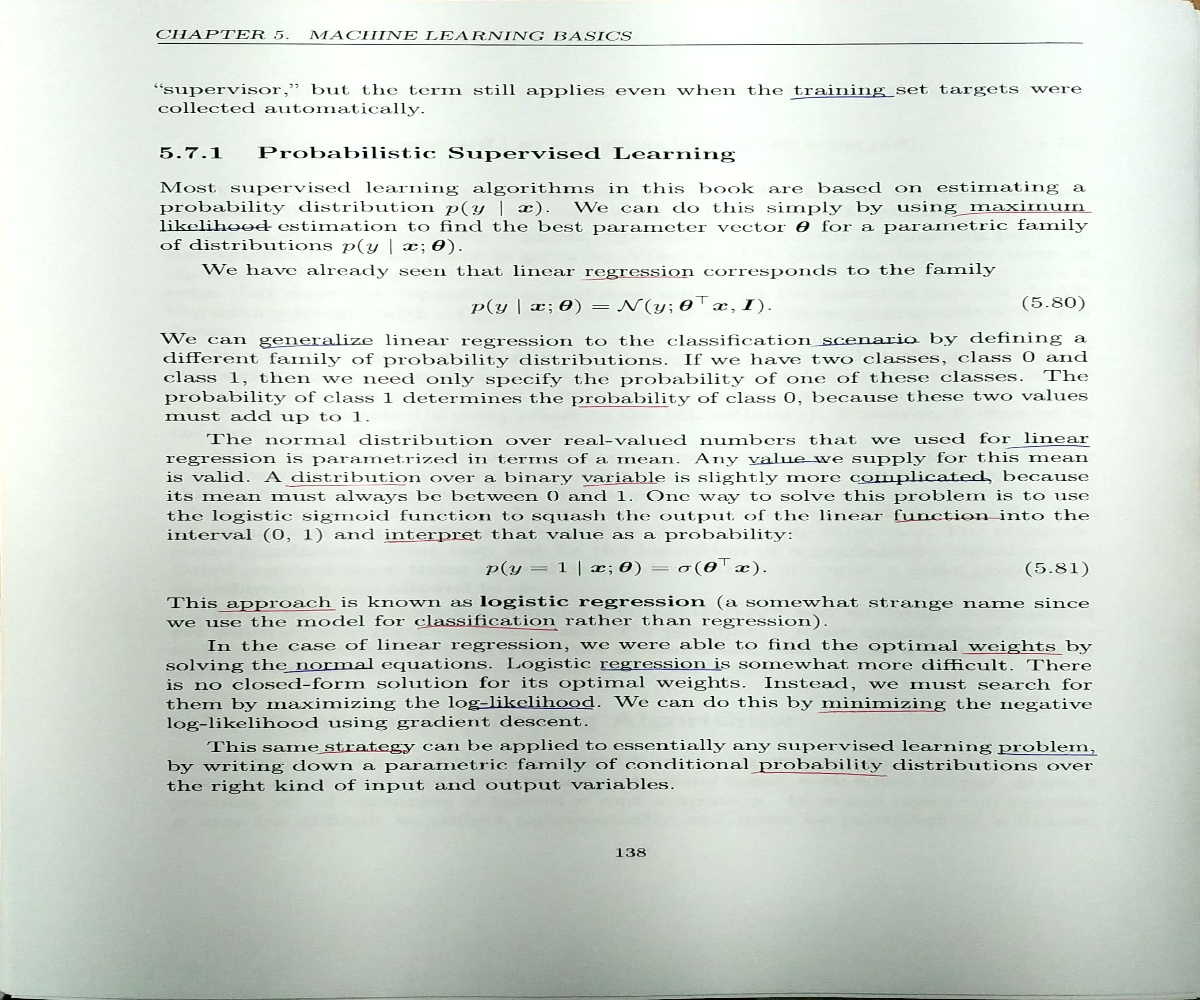underline: (416, 622, 561, 636), (751, 769, 889, 779), (217, 606, 336, 616), (951, 210, 1098, 218), (602, 665, 727, 674), (383, 536, 480, 546), (818, 708, 939, 716), (855, 477, 993, 484), (156, 225, 275, 233), (960, 650, 1065, 659), (1002, 441, 1092, 451), (998, 750, 1097, 759), (791, 93, 901, 101), (283, 481, 405, 488), (467, 706, 601, 712), (580, 275, 693, 282), (318, 749, 411, 757), (261, 342, 375, 348), (894, 516, 1007, 522), (573, 402, 669, 409), (284, 666, 373, 672), (752, 459, 832, 465), (810, 341, 925, 344)
